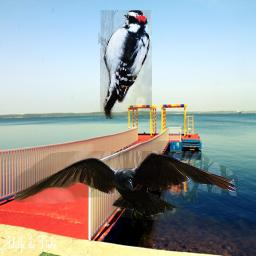Crow: (14, 151, 238, 228)
Woodpecker: (98, 10, 153, 119)
